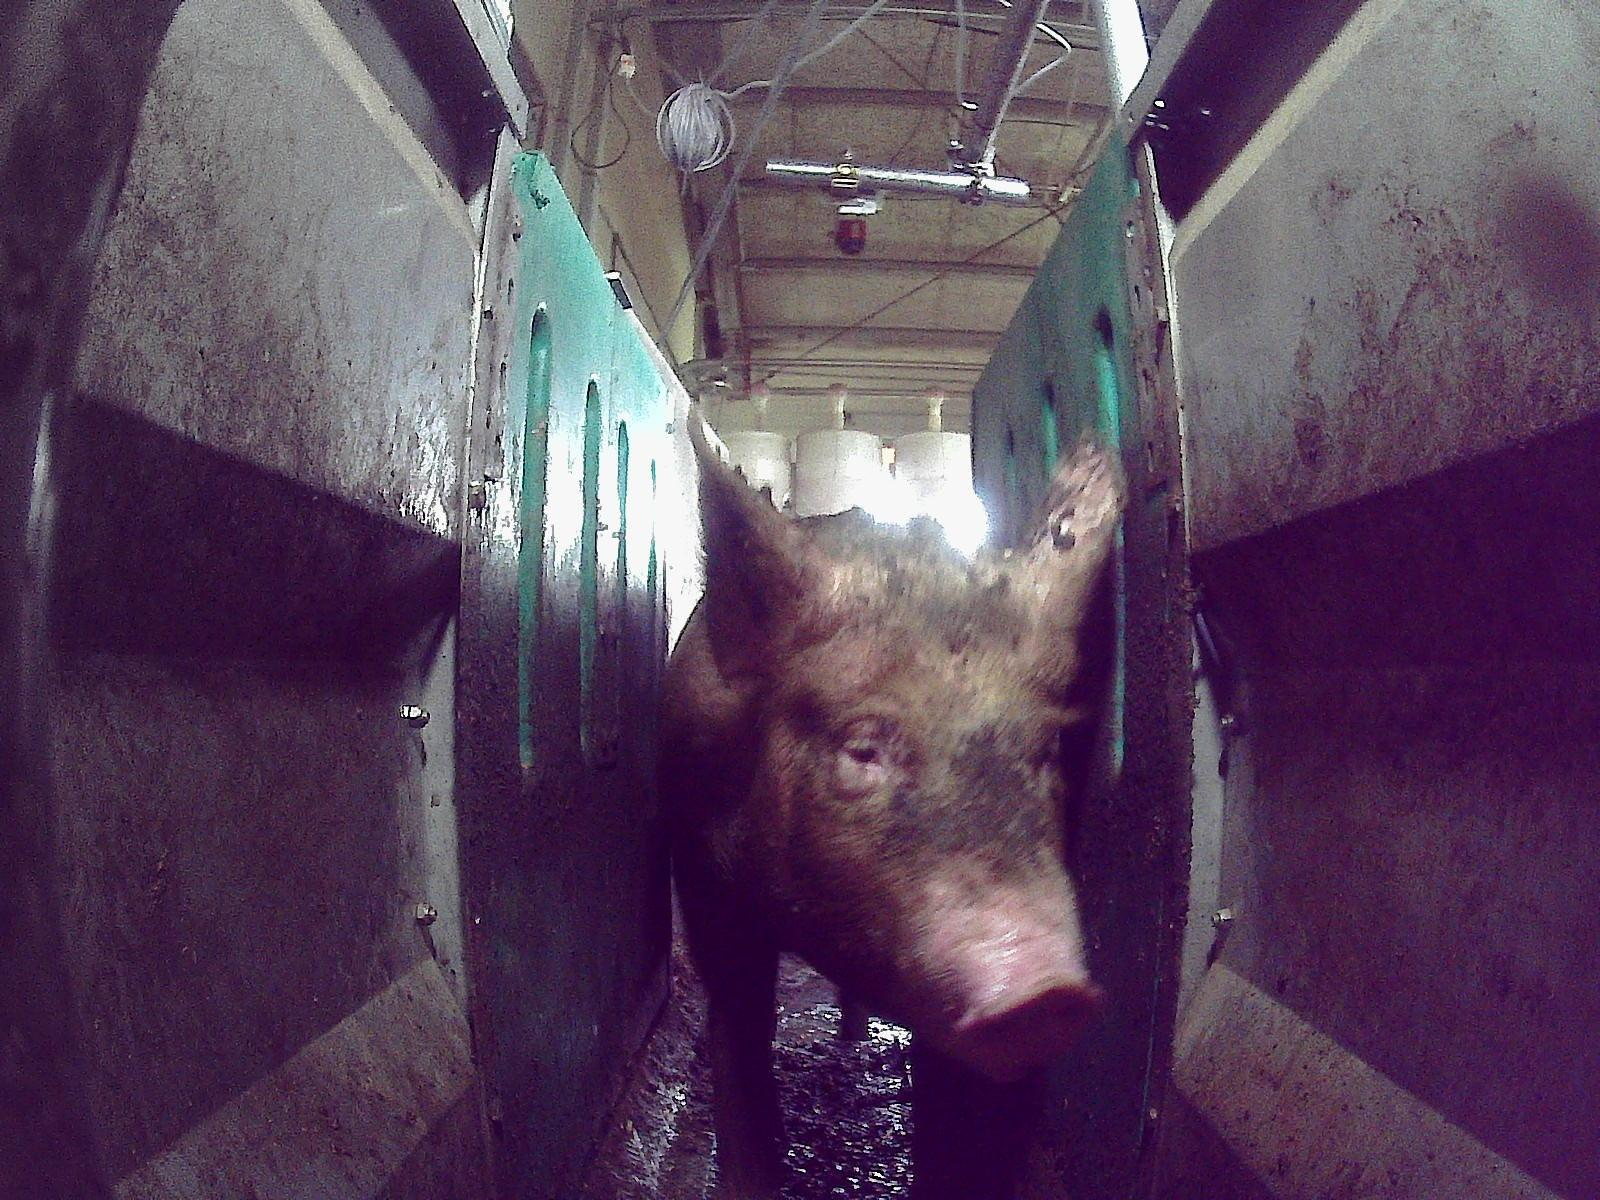Face: (753, 571, 1104, 1081)
